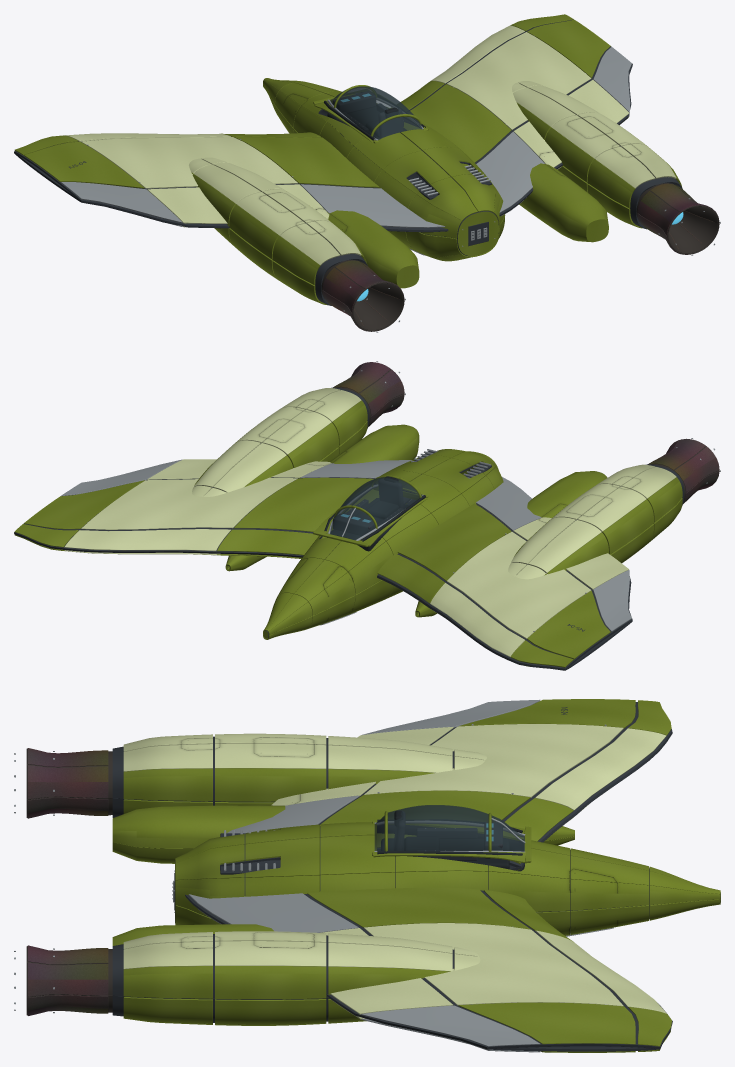
The picture shows the model from 3 angles, top to bottom: view 1: azimuth 30°, elevation 25°; view 2: azimuth 150°, elevation 25°; view 3: azimuth 270°, elevation 25°; orthographic projection. The views are drawn at different scales.
Parts seen in each view (by area): view 1: Aft pressure bulkhead, Fitted lifting skin.003, Fuselage fitted skin 00.0, Sealed avionics connector, Aft avionics recess, Swept inlet guide vane, Formed heat alloy nozzle petal, Thin laminated canopy glazing, Connector protected contact, Pressure hull substrate; view 2: Aft pressure bulkhead, Fitted lifting skin.003, Fuselage fitted skin 00.0, Sealed avionics connector, Aft avionics recess, Formed heat alloy nozzle petal, Thin laminated canopy glazing, Connector protected contact; view 3: Aft pressure bulkhead, Fitted lifting skin.003, Fuselage fitted skin 00.0, Sealed avionics connector, Formed heat alloy nozzle petal, Aft avionics recess, Thin laminated canopy glazing, Connector protected contact, Swept inlet guide vane, Pressure hull substrate.
Boxes of the visible parts, x1=… form: Aft pressure bulkhead: x1=14, y1=14, x2=681, y2=305; Fitted lifting skin.003: x1=64, y1=25, x2=676, y2=265; Fuselage fitted skin 00.0: x1=293, y1=91, x2=504, y2=238; Sealed avionics connector: x1=61, y1=36, x2=720, y2=332; Aft avionics recess: x1=14, y1=19, x2=682, y2=305; Swept inlet guide vane: x1=321, y1=183, x2=719, y2=331; Formed heat alloy nozzle petal: x1=322, y1=183, x2=719, y2=331; Thin laminated canopy glazing: x1=330, y1=86, x2=422, y2=139; Connector protected contact: x1=324, y1=100, x2=486, y2=238; Pressure hull substrate: x1=318, y1=105, x2=498, y2=256; Aft pressure bulkhead: x1=14, y1=400, x2=682, y2=667; Fitted lifting skin.003: x1=64, y1=388, x2=676, y2=656; Fuselage fitted skin 00.0: x1=298, y1=449, x2=503, y2=594; Sealed avionics connector: x1=61, y1=361, x2=720, y2=631; Aft avionics recess: x1=14, y1=387, x2=684, y2=670; Formed heat alloy nozzle petal: x1=333, y1=362, x2=719, y2=503; Thin laminated canopy glazing: x1=329, y1=477, x2=421, y2=540; Connector protected contact: x1=324, y1=476, x2=425, y2=551; Aft pressure bulkhead: x1=112, y1=699, x2=720, y2=1052; Fitted lifting skin.003: x1=123, y1=724, x2=666, y2=1019; Fuselage fitted skin 00.0: x1=175, y1=822, x2=570, y2=916; Sealed avionics connector: x1=14, y1=699, x2=613, y2=1052; Formed heat alloy nozzle petal: x1=27, y1=748, x2=108, y2=1015; Aft avionics recess: x1=112, y1=702, x2=672, y2=1051; Thin laminated canopy glazing: x1=374, y1=805, x2=524, y2=851; Connector protected contact: x1=172, y1=810, x2=522, y2=898; Swept inlet guide vane: x1=26, y1=748, x2=112, y2=1015; Pressure hull substrate: x1=175, y1=824, x2=720, y2=932.
Bounding box in the file's own units: 3.36 × 0.6239 × 2.9.
Materials: 9 (3 with a texture image).
